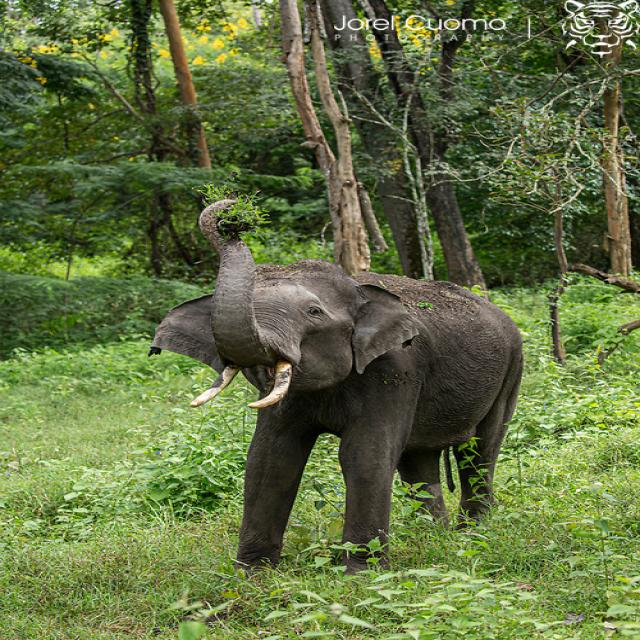Elephant: (147, 174, 552, 610)
